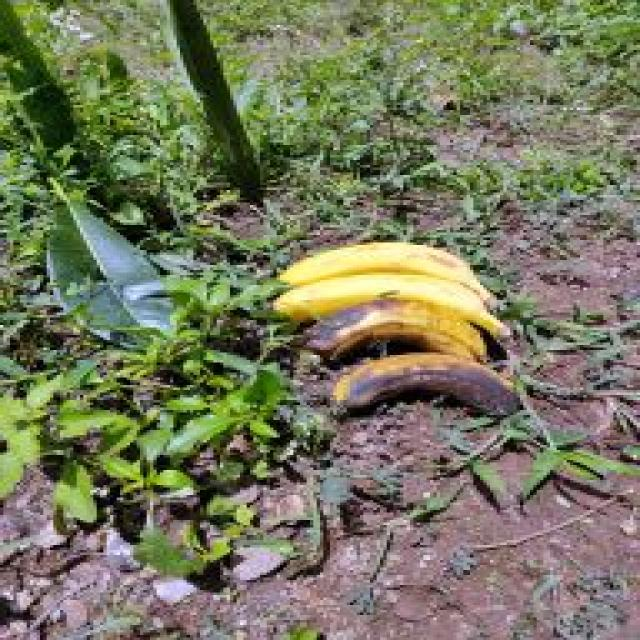Organik: (271, 291, 494, 355), (264, 272, 512, 320), (283, 239, 500, 281)
